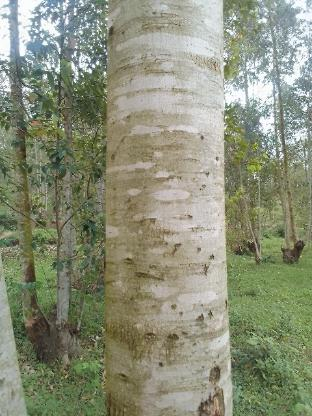tree: (87, 0, 236, 416)
